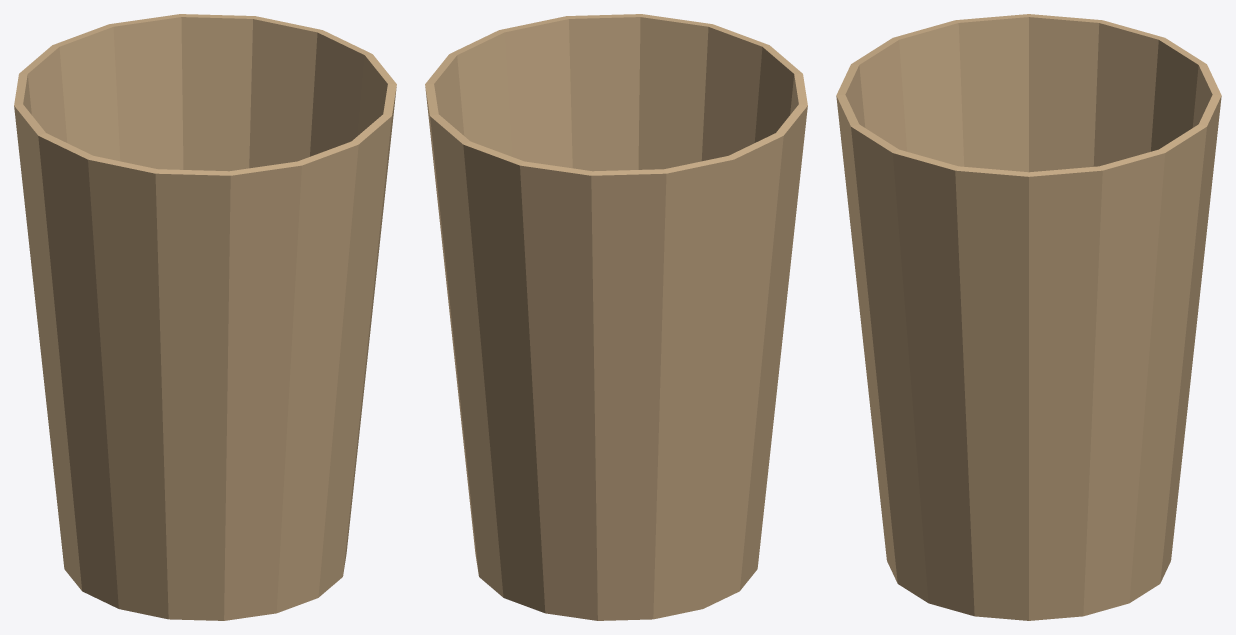
File: Vaso.fbx
The picture shows the model from 3 angles, left to right: view 1: azimuth 30°, elevation 25°; view 2: azimuth 150°, elevation 25°; view 3: azimuth 270°, elevation 25°; orthographic projection.
Parts seen in each view (by area): view 1: Vaso; view 2: Vaso; view 3: Vaso.
Part boxes in pixels (left/top/right/bottom): Vaso: left=14, top=14, right=396, bottom=620; Vaso: left=425, top=14, right=807, bottom=620; Vaso: left=836, top=14, right=1221, bottom=620.
Size of the model in its own units: 10.57 by 14.11 by 10.57.
